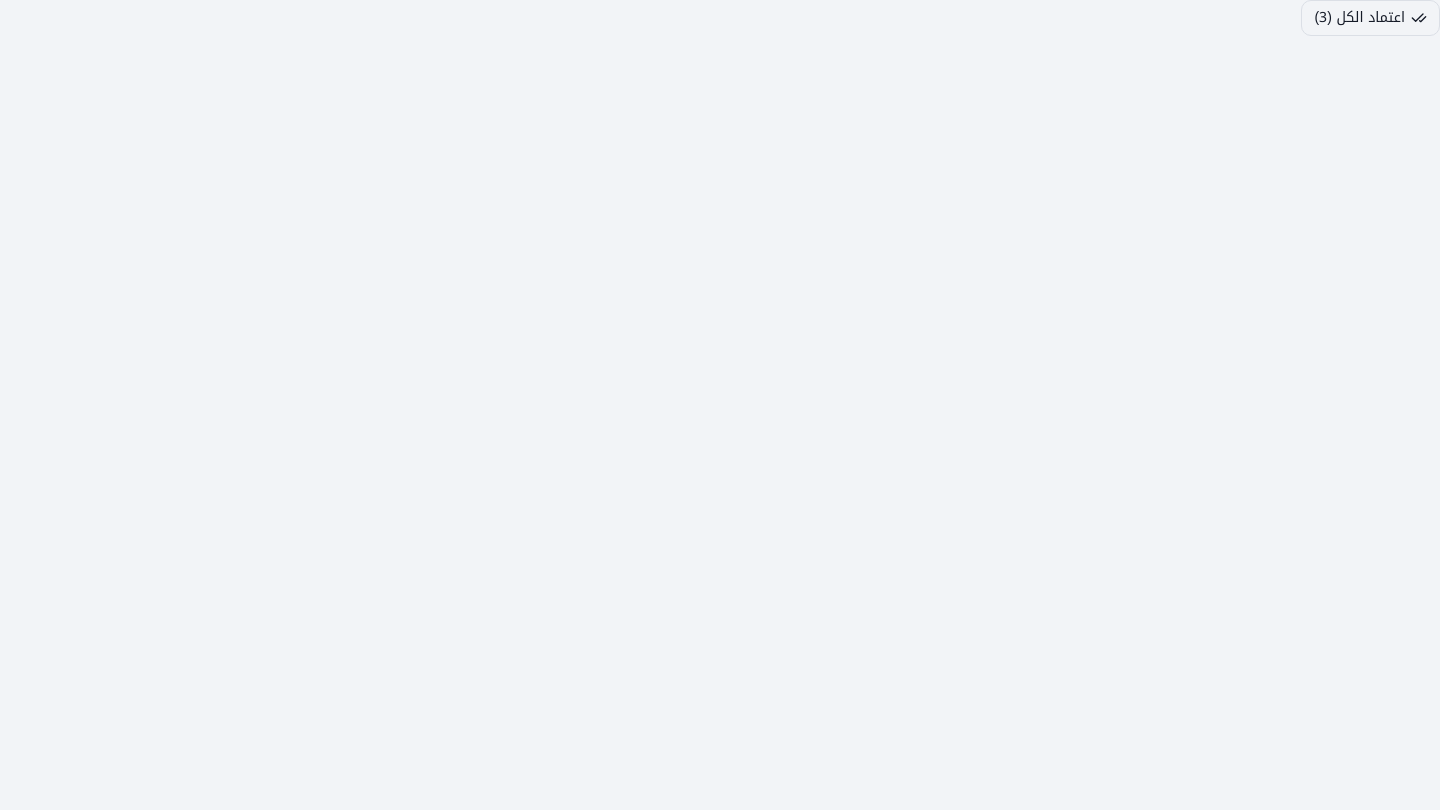
Test case: BulkApproveButton › confirms the count and total, approves each in turn, and names what the system refused
Later steps or results of the test are not shown.
Click the button "اعتماد الكل (3)" at (1371, 18), box [1301, 0, 1439, 36]
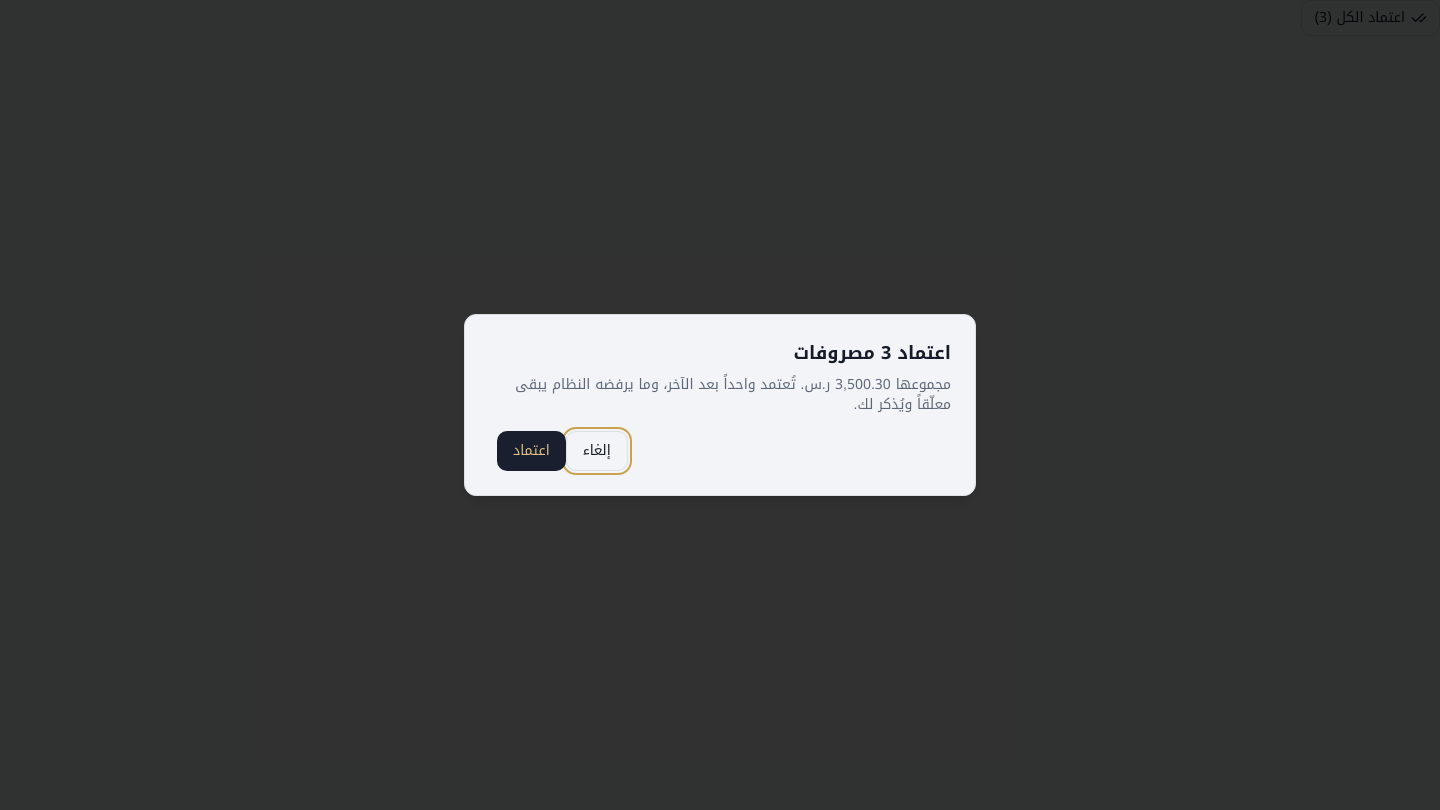
Expected: the heading "اعتماد 3 مصروفات" is shown, [794, 336, 951, 370]
Expected: the text "3,500.30 ر.س" is shown, [804, 371, 891, 398]
